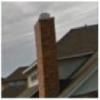chimneys: (34, 12, 60, 98)
